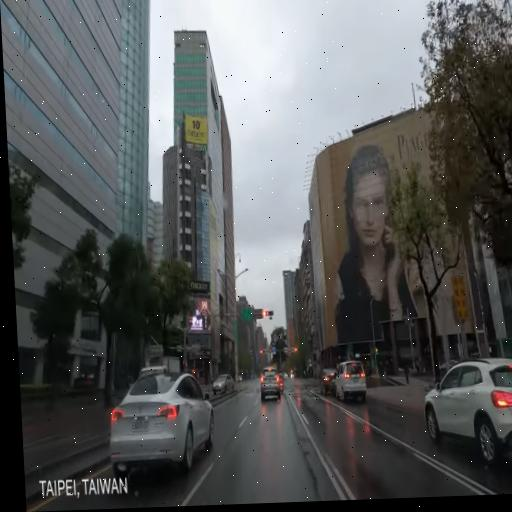Car: (107, 368, 217, 482), (420, 334, 512, 470), (135, 351, 184, 415), (334, 358, 366, 399), (259, 366, 281, 402), (211, 371, 236, 399), (320, 364, 339, 394)
